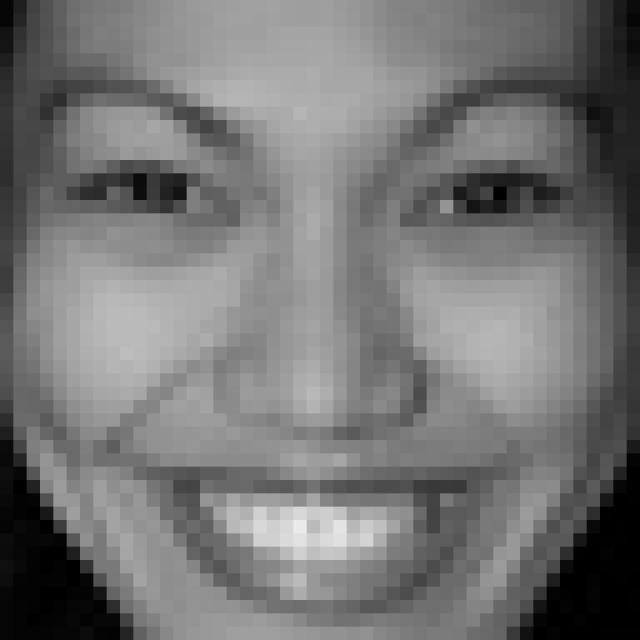happy: (29, 64, 613, 622)
